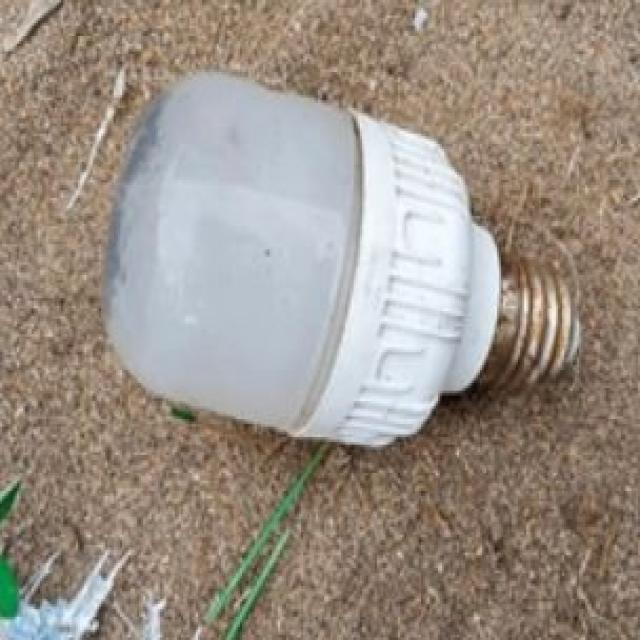electronic: (97, 64, 581, 450)
